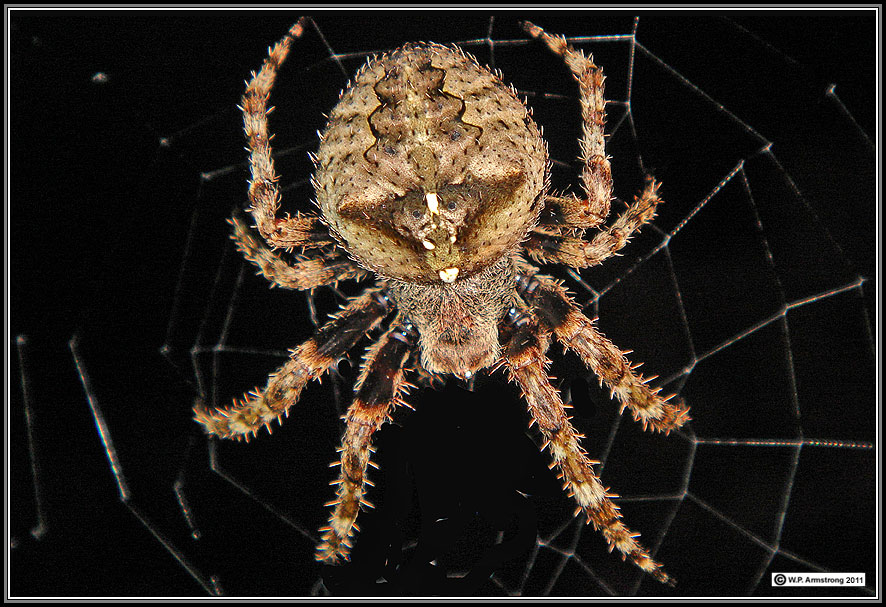spider: (143, 15, 743, 589)
